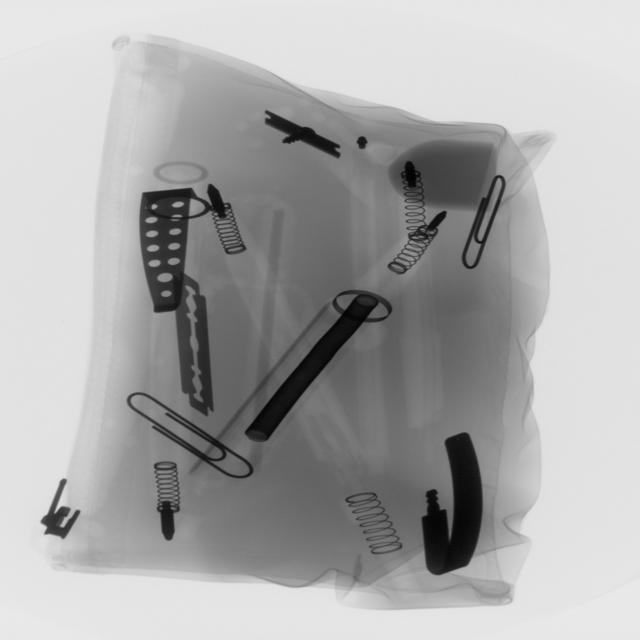pin: (125, 381, 257, 487), (461, 174, 509, 274)
razor: (177, 270, 223, 418)
